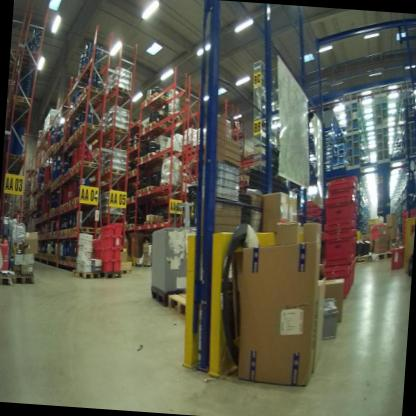pallet: (11, 47, 159, 229), (164, 291, 214, 331), (107, 81, 136, 109), (82, 81, 108, 108), (11, 269, 37, 294), (76, 89, 106, 109), (4, 148, 26, 174), (76, 60, 101, 82), (348, 250, 374, 271), (0, 263, 18, 293), (146, 115, 170, 137), (81, 119, 104, 141), (149, 88, 173, 109), (71, 266, 102, 282), (20, 48, 43, 69), (100, 163, 127, 180), (139, 124, 163, 143), (106, 122, 132, 139), (74, 156, 97, 175), (71, 224, 99, 239), (370, 246, 392, 264), (100, 266, 124, 282), (140, 98, 164, 114), (144, 145, 161, 166), (159, 180, 182, 193), (67, 99, 81, 119), (144, 181, 161, 197), (12, 91, 31, 105), (126, 165, 140, 181), (8, 72, 19, 91), (128, 219, 142, 233), (70, 125, 82, 141), (62, 165, 72, 184), (58, 200, 67, 217), (137, 152, 148, 165), (135, 185, 145, 198), (70, 165, 78, 179), (69, 253, 78, 265), (60, 225, 67, 240), (65, 200, 74, 211), (66, 225, 72, 239), (142, 261, 151, 269), (72, 195, 78, 205), (65, 253, 71, 262)
small_load_carrier: (327, 174, 404, 274), (319, 223, 357, 265), (320, 191, 358, 227), (323, 263, 354, 295), (111, 218, 127, 238), (98, 224, 115, 240), (89, 250, 104, 264), (98, 236, 112, 250), (99, 258, 112, 273), (100, 247, 113, 261), (111, 248, 124, 261), (111, 260, 123, 274), (112, 237, 126, 249), (94, 239, 105, 250)
